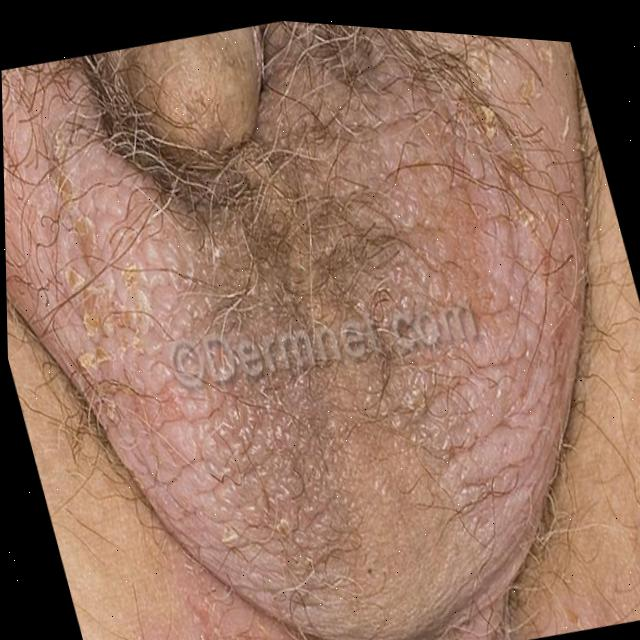Eczema: (16, 122, 268, 508)
